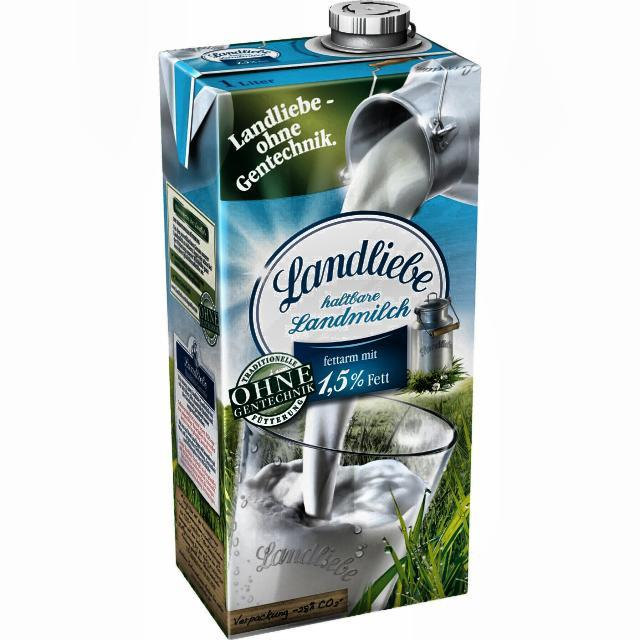cardboard: (159, 18, 479, 638)
